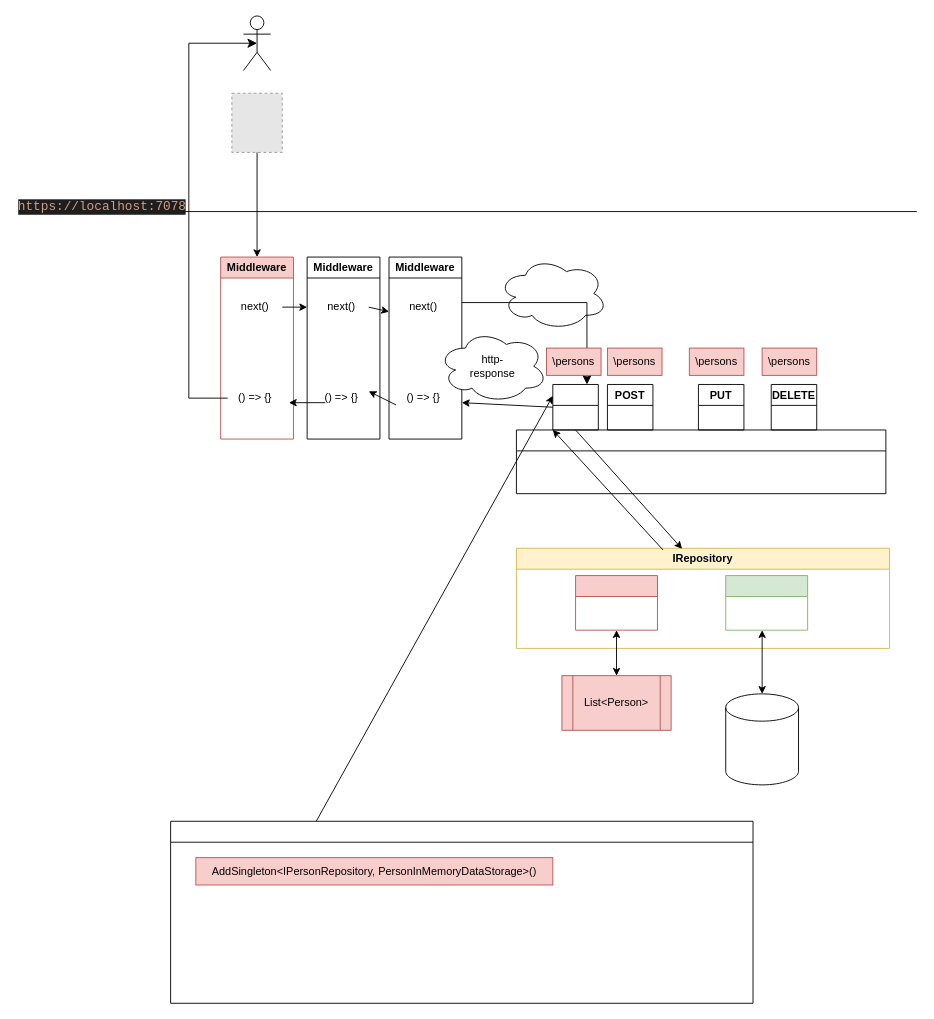
Some shapes in this 934 by 1019 pixel diagram are drawn without their labels. Grey dashed boxes stand in for pictures. The shapes that lost their labels are listed below. From the top down, each one's box as (x1, y1, x2, y2) in pixels, then its label:
(243, 15, 271, 71): Client
(497, 256, 607, 330): http-request
(552, 384, 598, 430): GET
(516, 429, 886, 494): Endepunkter
(575, 575, 657, 630): In Memory
(725, 575, 808, 630): MySQL
(170, 820, 753, 1003): DI Container
